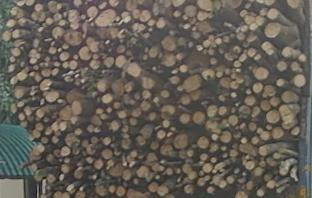medium: (95, 9, 115, 26), (185, 75, 201, 91), (265, 22, 280, 38), (280, 106, 296, 121), (65, 31, 82, 45), (42, 90, 59, 103), (31, 4, 44, 21), (67, 89, 83, 102), (31, 144, 44, 159), (127, 63, 140, 77), (266, 110, 280, 123), (79, 47, 92, 61), (161, 53, 175, 66), (240, 144, 256, 155), (255, 66, 268, 79), (295, 73, 307, 87), (65, 134, 79, 146), (262, 41, 274, 55), (68, 9, 80, 23), (47, 0, 59, 14), (9, 7, 24, 18), (127, 189, 147, 197), (175, 135, 187, 148), (193, 111, 205, 124), (59, 106, 71, 119), (112, 81, 124, 94), (39, 79, 52, 91), (110, 163, 122, 176), (86, 6, 98, 19), (141, 77, 154, 89), (162, 38, 174, 50), (52, 27, 64, 39), (221, 130, 233, 142), (137, 166, 149, 178), (52, 12, 64, 24), (134, 134, 145, 147), (96, 184, 107, 197), (202, 69, 214, 80), (245, 95, 257, 106), (109, 119, 120, 131), (282, 47, 294, 58), (119, 140, 131, 151), (94, 159, 105, 171), (139, 10, 150, 22), (197, 11, 209, 22), (121, 11, 132, 23), (276, 62, 289, 72), (283, 119, 297, 128), (283, 91, 294, 102), (185, 5, 196, 16), (148, 182, 159, 193), (239, 105, 250, 116), (90, 60, 102, 70), (180, 94, 190, 106), (122, 170, 132, 182), (199, 137, 209, 148), (229, 115, 239, 126), (125, 0, 136, 10), (273, 129, 283, 140), (61, 146, 71, 157), (150, 140, 160, 151), (158, 186, 168, 197), (41, 68, 52, 78), (187, 170, 198, 180), (72, 102, 81, 114), (163, 105, 175, 114), (218, 106, 227, 118), (268, 8, 278, 18), (102, 94, 112, 104), (180, 113, 190, 123), (220, 77, 230, 87), (103, 57, 113, 67), (252, 83, 262, 93), (265, 86, 275, 96), (271, 96, 281, 106), (10, 48, 20, 58), (17, 70, 27, 80), (246, 160, 256, 170), (97, 81, 106, 92), (208, 106, 217, 117), (116, 56, 125, 67), (261, 131, 270, 142), (14, 87, 23, 98), (12, 29, 21, 40), (61, 163, 70, 174), (291, 61, 300, 72), (185, 184, 194, 195), (213, 173, 222, 184), (235, 190, 248, 197), (209, 143, 218, 153), (257, 146, 267, 155), (149, 48, 158, 58), (261, 100, 270, 110), (244, 14, 254, 23), (203, 163, 212, 173), (116, 187, 126, 196), (254, 168, 264, 177), (291, 126, 301, 135), (247, 46, 256, 56), (74, 169, 83, 179), (256, 15, 265, 25), (87, 145, 96, 155), (2, 30, 10, 41), (53, 192, 70, 197), (60, 52, 69, 61), (5, 19, 14, 28), (103, 137, 112, 146), (117, 44, 126, 53), (183, 163, 191, 173), (103, 149, 111, 158), (36, 109, 44, 118), (249, 23, 258, 31), (249, 121, 257, 130), (32, 130, 40, 138), (76, 192, 85, 197), (71, 23, 78, 29)
small: (141, 101, 149, 110), (161, 90, 171, 97), (157, 130, 165, 138), (157, 20, 165, 28), (245, 180, 252, 189), (144, 32, 151, 41), (171, 76, 179, 83), (276, 186, 283, 194), (212, 134, 219, 141), (180, 65, 187, 72), (210, 156, 217, 163), (234, 61, 241, 68), (218, 94, 225, 101), (63, 156, 70, 163), (106, 107, 113, 114), (277, 78, 284, 85), (86, 126, 93, 133), (241, 24, 248, 31), (8, 56, 15, 63), (70, 61, 77, 68), (38, 61, 45, 68), (52, 69, 59, 76), (266, 124, 273, 131), (280, 168, 287, 175), (225, 67, 232, 74), (240, 54, 247, 61), (17, 101, 24, 108), (260, 9, 267, 16), (30, 164, 37, 171), (59, 175, 66, 182), (150, 112, 156, 120), (159, 164, 165, 172), (45, 154, 53, 160), (48, 174, 54, 182), (130, 118, 136, 125), (119, 110, 125, 117), (175, 168, 181, 175), (155, 174, 162, 180), (217, 70, 223, 77), (32, 64, 38, 71), (187, 148, 193, 155), (30, 89, 36, 96), (56, 47, 63, 53), (75, 128, 81, 135), (133, 93, 140, 99), (126, 84, 132, 91), (109, 186, 116, 192), (52, 136, 58, 143), (267, 181, 274, 187), (273, 152, 280, 158), (264, 173, 270, 180), (174, 10, 180, 17), (60, 123, 67, 129), (36, 122, 42, 129), (33, 39, 39, 46), (240, 9, 246, 16), (35, 174, 42, 180), (133, 24, 140, 30), (163, 120, 169, 126), (232, 92, 238, 98), (241, 137, 247, 143), (221, 145, 227, 151), (222, 152, 228, 158), (227, 177, 233, 183), (62, 61, 68, 67), (72, 54, 78, 60), (94, 53, 100, 59), (53, 61, 59, 67), (29, 71, 35, 77), (246, 88, 252, 94), (147, 20, 153, 26), (142, 46, 148, 52), (142, 54, 148, 60), (96, 107, 102, 113), (100, 114, 106, 120), (261, 92, 267, 98), (197, 44, 203, 50), (126, 50, 132, 56), (255, 54, 261, 60), (30, 96, 36, 102), (30, 84, 36, 90), (131, 152, 137, 158), (92, 137, 98, 143), (81, 139, 87, 145), (202, 154, 208, 160), (107, 160, 113, 166), (153, 97, 159, 103), (114, 101, 120, 107), (216, 38, 222, 44), (224, 36, 230, 42), (30, 58, 36, 64), (59, 19, 65, 25), (204, 175, 210, 181), (234, 166, 240, 172), (19, 114, 25, 120), (43, 137, 49, 143), (42, 61, 48, 67), (45, 55, 51, 61), (49, 47, 55, 53), (52, 53, 58, 59), (257, 128, 263, 134), (251, 137, 257, 143), (273, 168, 279, 174), (187, 41, 193, 47), (177, 56, 183, 62), (301, 55, 307, 61), (184, 23, 190, 29), (192, 32, 198, 38), (45, 129, 51, 135), (198, 178, 204, 184), (167, 168, 173, 174), (78, 185, 84, 191), (68, 184, 74, 190), (10, 79, 16, 85), (8, 66, 14, 72), (246, 3, 252, 9), (139, 24, 145, 30), (123, 119, 128, 126), (177, 85, 183, 90), (211, 59, 217, 64), (190, 143, 196, 148), (220, 181, 225, 187), (47, 18, 52, 24), (204, 41, 210, 46), (133, 178, 139, 183), (95, 127, 101, 132), (209, 187, 214, 193), (122, 127, 128, 132), (122, 133, 128, 138), (152, 65, 157, 71), (257, 189, 262, 195), (275, 181, 280, 187), (230, 107, 236, 112), (241, 123, 247, 128), (259, 161, 265, 166), (172, 69, 178, 74), (87, 157, 93, 162), (57, 3, 62, 9)
